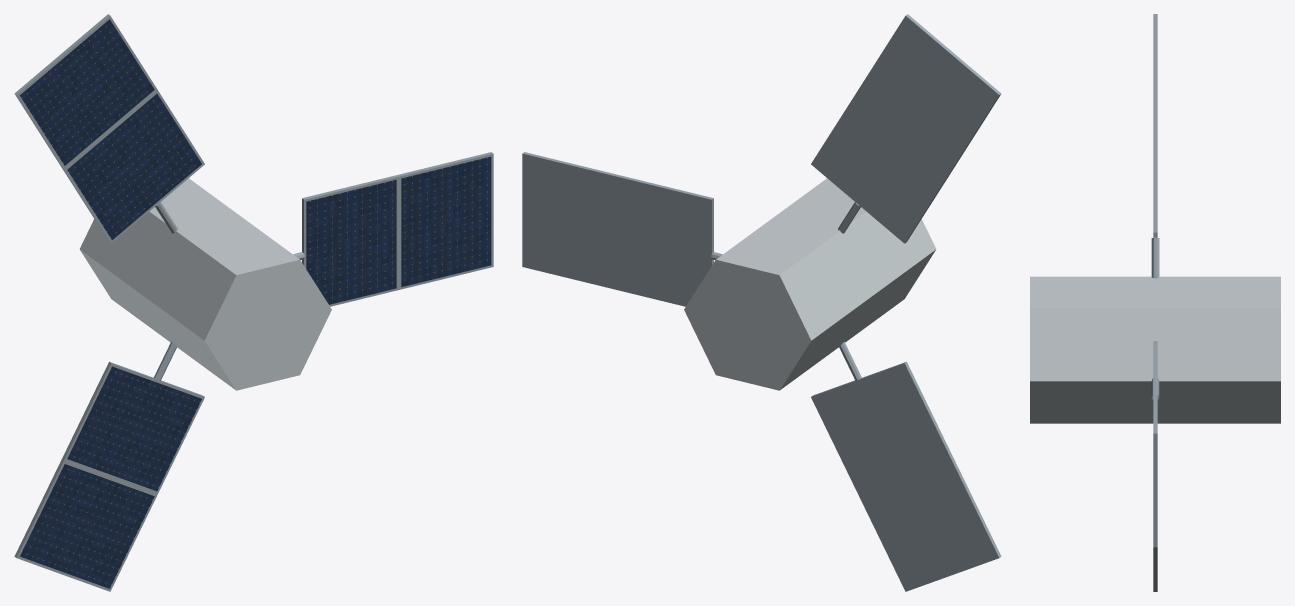
Rendered from ref-astrobus-s-41770.glb.
The picture shows the model from 3 angles, left to right: view 1: azimuth 30°, elevation 25°; view 2: azimuth 150°, elevation 25°; view 3: azimuth 270°, elevation 25°; orthographic projection.
Parts seen in each view (by area): view 1: Photovoltaic laminates (×6), Spacecraft body, Array frame (×6); view 2: Array frame (×6), Spacecraft body; view 3: Spacecraft body, Array frame (×3), Solar array drive.
Part boxes in pixels (x1=…): Photovoltaic laminates (×6): x1=20, y1=19, x2=491, y2=588; Spacecraft body: x1=79, y1=178, x2=331, y2=390; Array frame (×6): x1=14, y1=14, x2=493, y2=591; Array frame (×6): x1=522, y1=14, x2=1001, y2=591; Spacecraft body: x1=684, y1=178, x2=936, y2=390; Spacecraft body: x1=1030, y1=276, x2=1280, y2=423; Array frame (×3): x1=1153, y1=14, x2=1157, y2=547; Solar array drive: x1=1151, y1=237, x2=1159, y2=278.
Size of the model in its own units: 3.74 by 4.32 by 1.7.
3 materials, 1 textured.
